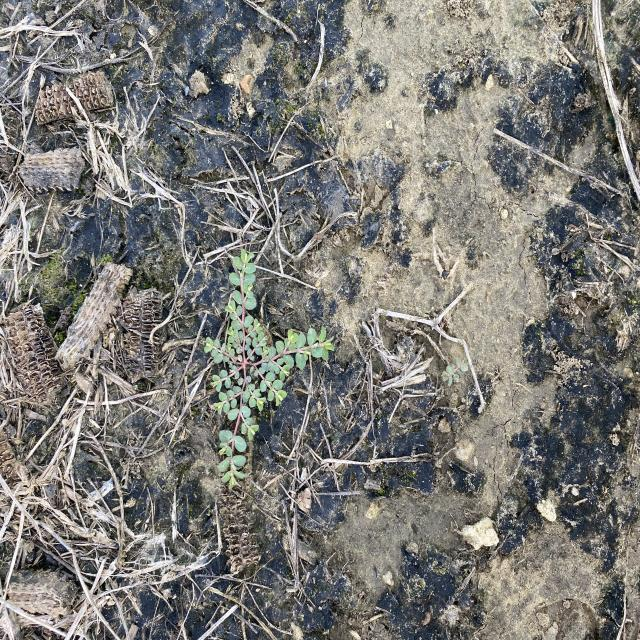SpottedSpurge: (203, 247, 335, 493)
